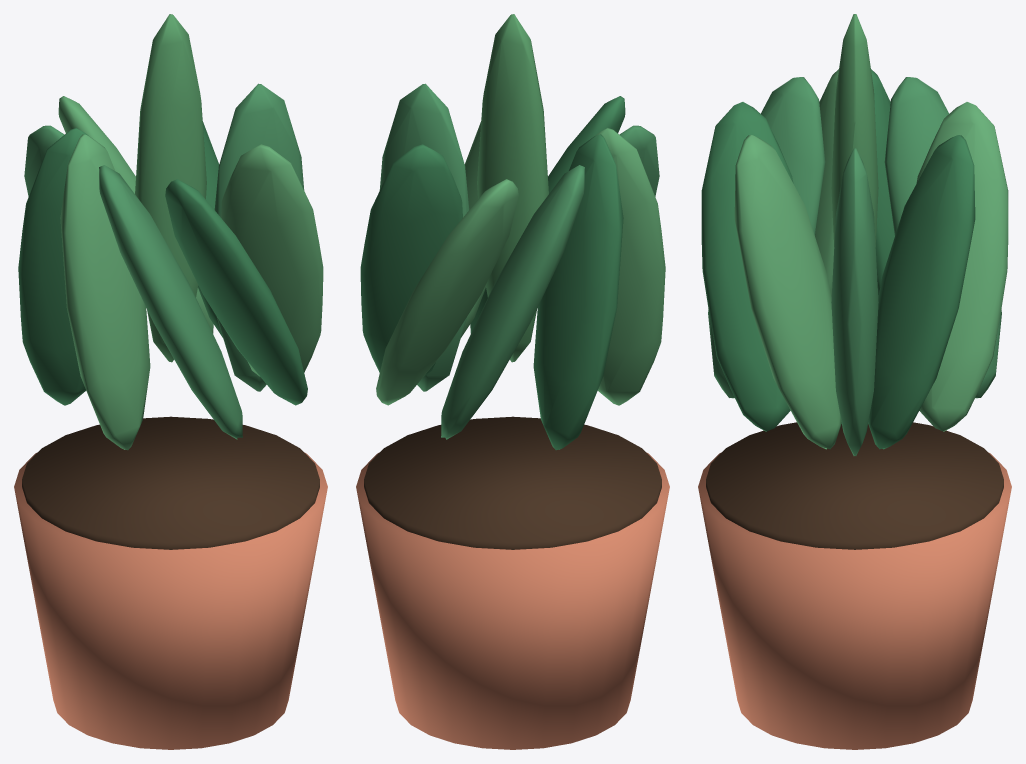
The model's file is plant.glb.
The picture shows the model from 3 angles, left to right: view 1: azimuth 30°, elevation 25°; view 2: azimuth 150°, elevation 25°; view 3: azimuth 270°, elevation 25°; orthographic projection.
Parts seen in each view (by area): view 1: pot, soil, leaf.004, leaf.001, leaf.002, leaf.003, leaf-mid, leaf.005, leaf, leaf.007, leaf.006, leaf.008; view 2: pot, soil, leaf.005, leaf.008, leaf.007, leaf.006, leaf-mid, leaf.004, leaf, leaf.002, leaf.003, leaf.001; view 3: pot, soil, leaf.001, leaf.008, leaf.007, leaf.002, leaf, leaf-mid, leaf.003, leaf.006, leaf.004, leaf.005.
Part boxes in pixels (x1,y1,x2,y2): pot: [14, 452, 327, 749]; soil: [22, 416, 319, 549]; leaf.004: [60, 134, 150, 450]; leaf.001: [221, 144, 323, 376]; leaf.002: [165, 179, 307, 405]; leaf.003: [99, 165, 242, 439]; leaf-mid: [135, 14, 206, 362]; leaf.005: [18, 128, 88, 405]; leaf: [214, 83, 304, 391]; leaf.007: [58, 96, 213, 333]; leaf.006: [24, 125, 64, 196]; leaf.008: [198, 121, 222, 337]; pot: [356, 452, 669, 749]; soil: [364, 416, 661, 549]; leaf.005: [533, 134, 623, 450]; leaf.008: [360, 144, 462, 376]; leaf.007: [376, 179, 518, 405]; leaf.006: [441, 165, 584, 439]; leaf-mid: [477, 14, 548, 362]; leaf.004: [595, 128, 665, 405]; leaf: [379, 83, 469, 391]; leaf.002: [470, 96, 625, 333]; leaf.003: [619, 125, 659, 196]; leaf.001: [461, 121, 485, 337]; pot: [698, 452, 1011, 749]; soil: [706, 422, 1003, 549]; leaf.001: [734, 135, 841, 449]; leaf.008: [868, 135, 975, 449]; leaf.007: [916, 102, 1008, 431]; leaf.002: [701, 102, 793, 431]; leaf: [831, 148, 878, 455]; leaf-mid: [831, 14, 878, 246]; leaf.003: [708, 77, 825, 398]; leaf.006: [884, 77, 1001, 398]; leaf.004: [815, 69, 838, 296]; leaf.005: [871, 69, 894, 296].
Bounding box in the file's own units: 0.4 × 0.9644 × 0.4.
